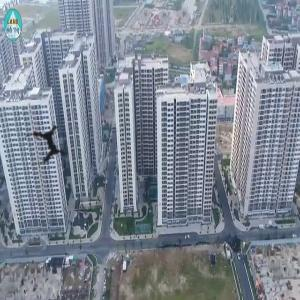drone: (8, 104, 95, 191)
